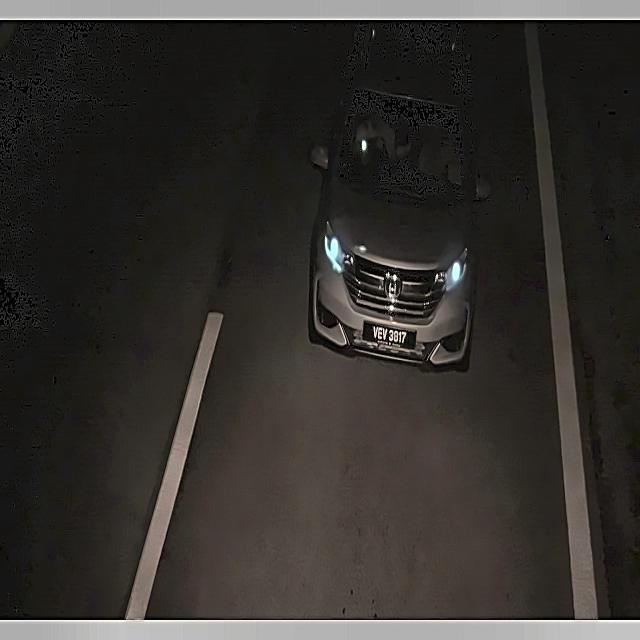car: (360, 316, 421, 355)
